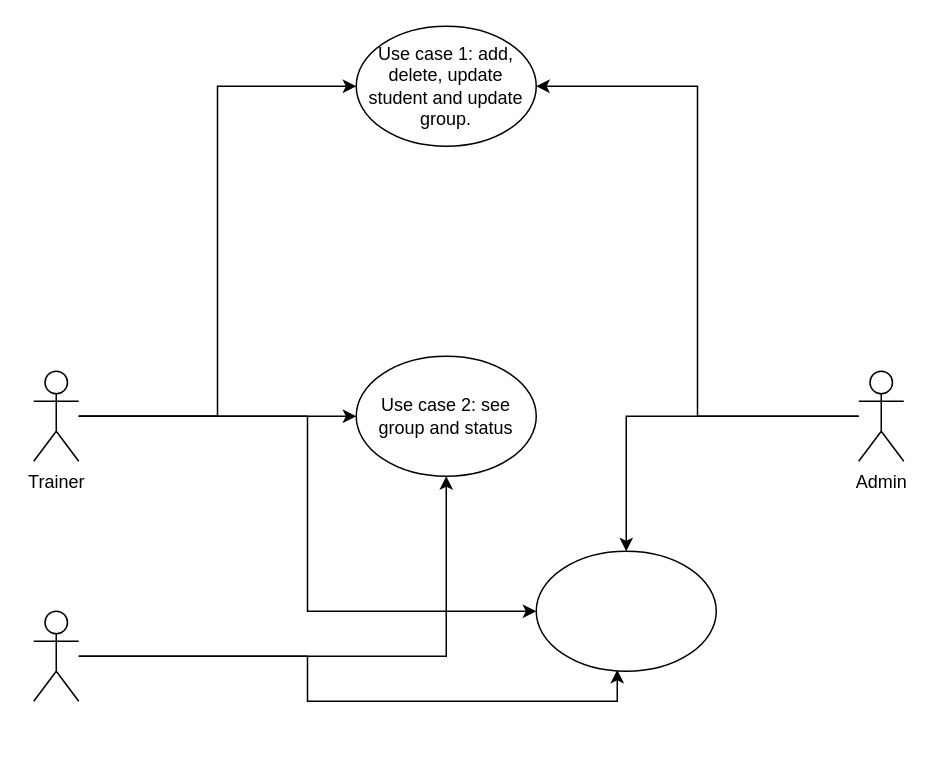
The diagram is 933 pixels wide and 759 high, and some of its shapes have lost their labels. Here are the shapes that lost their labels. From the top down, the centre of each, then its label:
point (625, 610): Use case 3: registration and authentication
point (55, 655): Student
